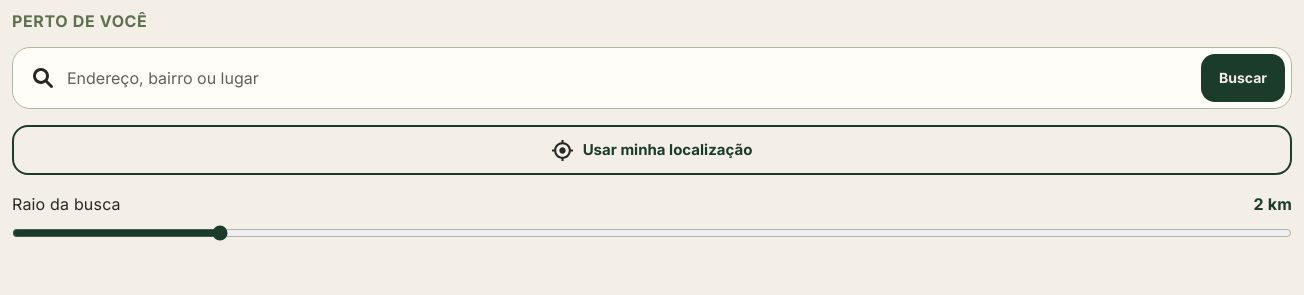
Test: LocationSearchControl › avisa quando nada é encontrado ou o texto é curto demais
Type "ab" into the search field labelled "Endereço, bairro ou lugar" at coordinates (627, 78), box left=65, top=64, right=1189, bottom=92
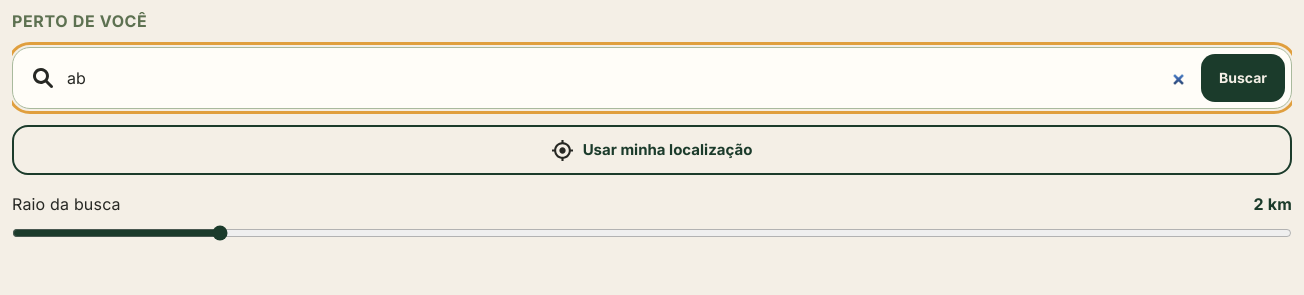
Click the button "Buscar" at coordinates (1243, 78), box left=1201, top=54, right=1285, bottom=102
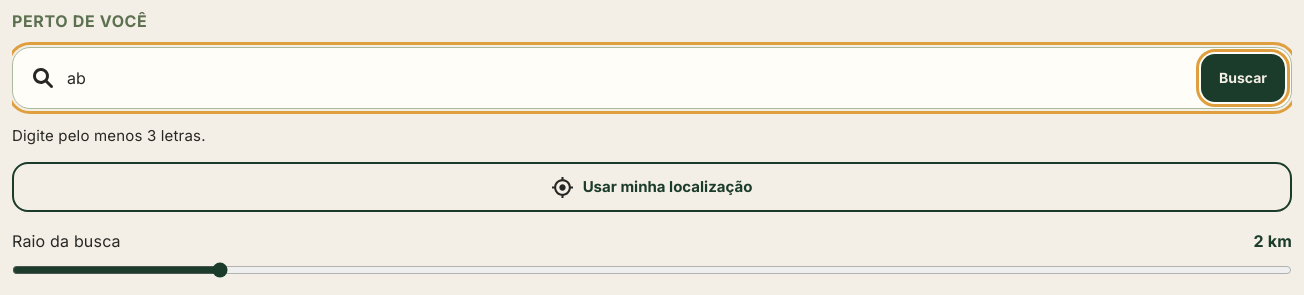
Expected: the message reads "Digite pelo menos 3 letras.", left=12, top=126, right=206, bottom=145
Type "cdefg" into the search field named "Endereço" at coordinates (627, 78), box left=65, top=64, right=1189, bottom=92
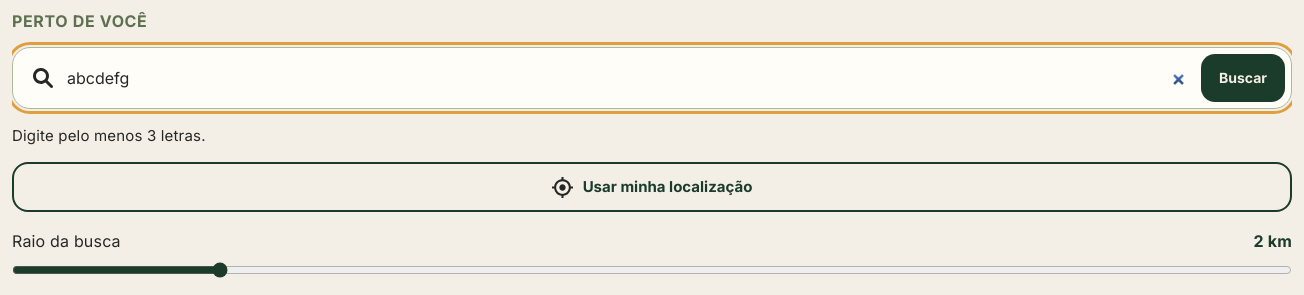
Click the button "Buscar" at coordinates (1243, 78), box left=1201, top=54, right=1285, bottom=102
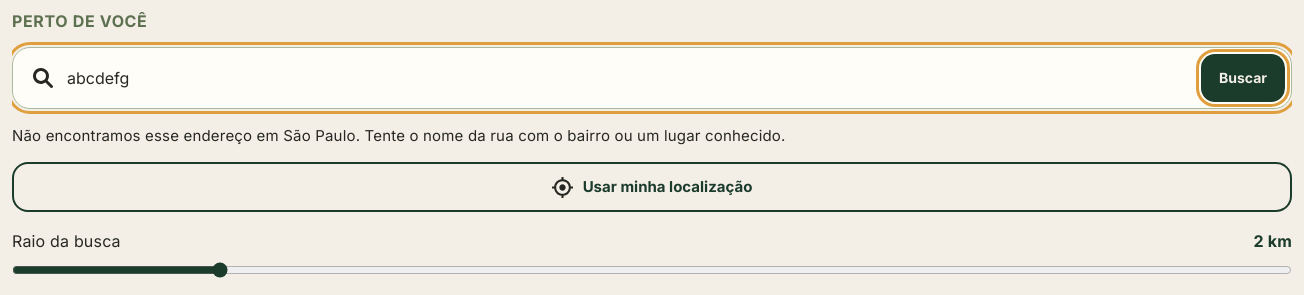
Expected: the text "Não encontramos esse endereço" is shown, left=12, top=126, right=786, bottom=145
